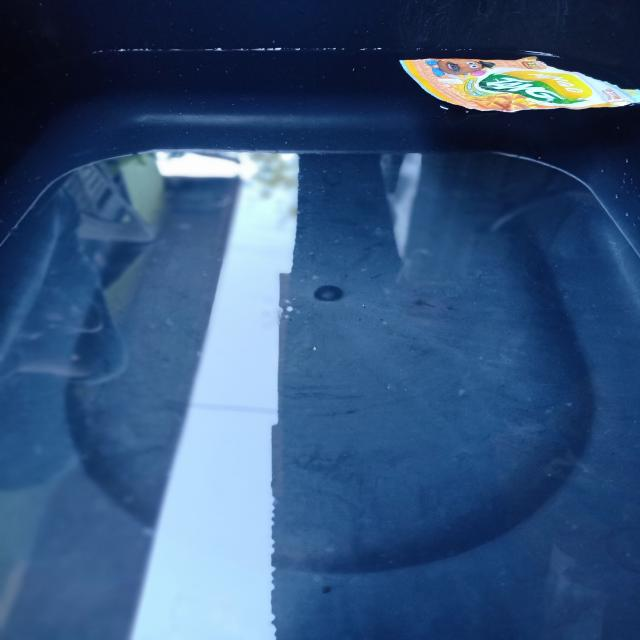Plastic Wrapper: (400, 56, 640, 113)
